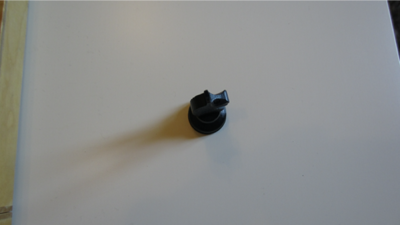black-knight: (186, 89, 231, 136)
